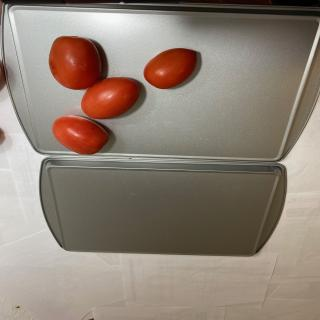Tomato: (48, 36, 102, 90), (81, 76, 140, 120), (52, 115, 109, 155), (144, 48, 198, 89)
